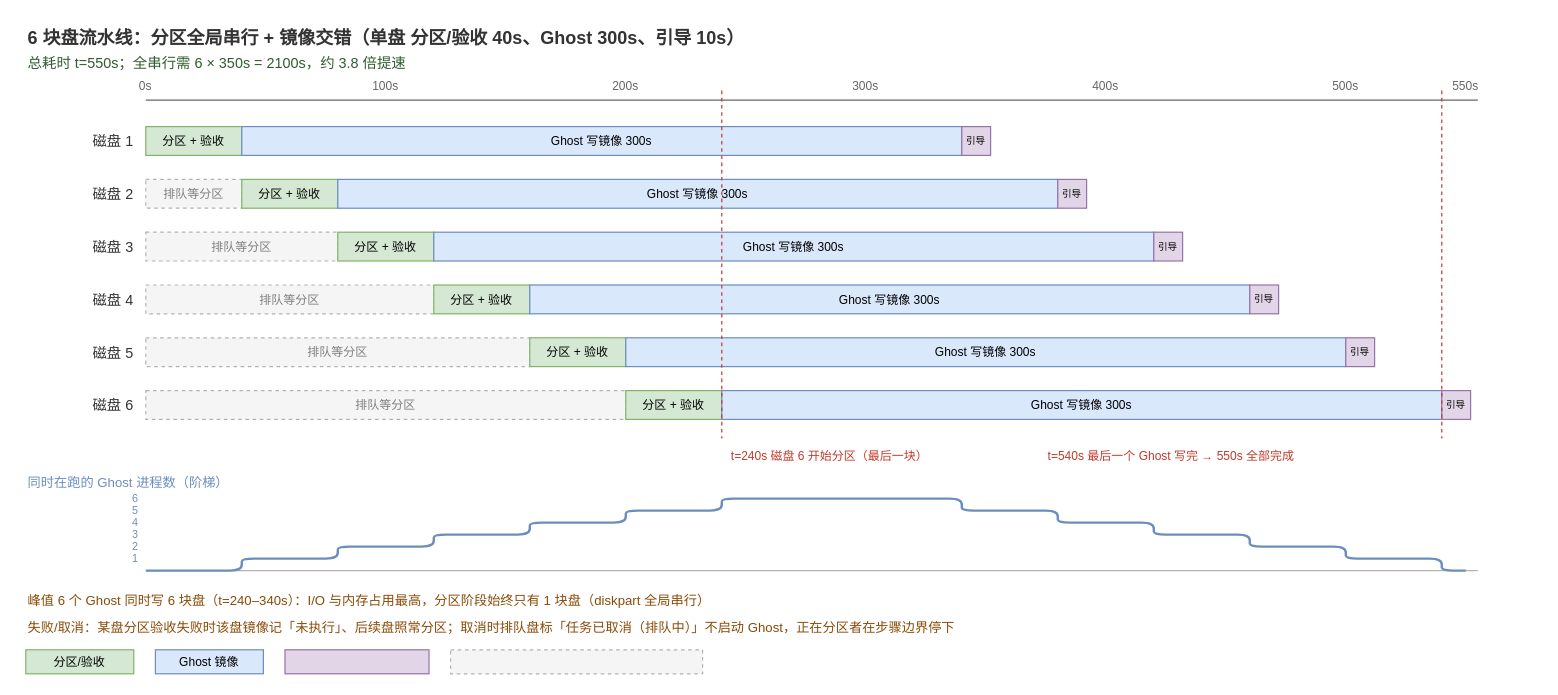
This 1558x695 diagram has some shape labels left out. The box of each missing label's shape, as (x1, y1, x2, y2) in pixels:
UEFI 引导+校验: (284, 649, 429, 674)
排队等待（线程已起，尚未分区）: (449, 649, 703, 674)
